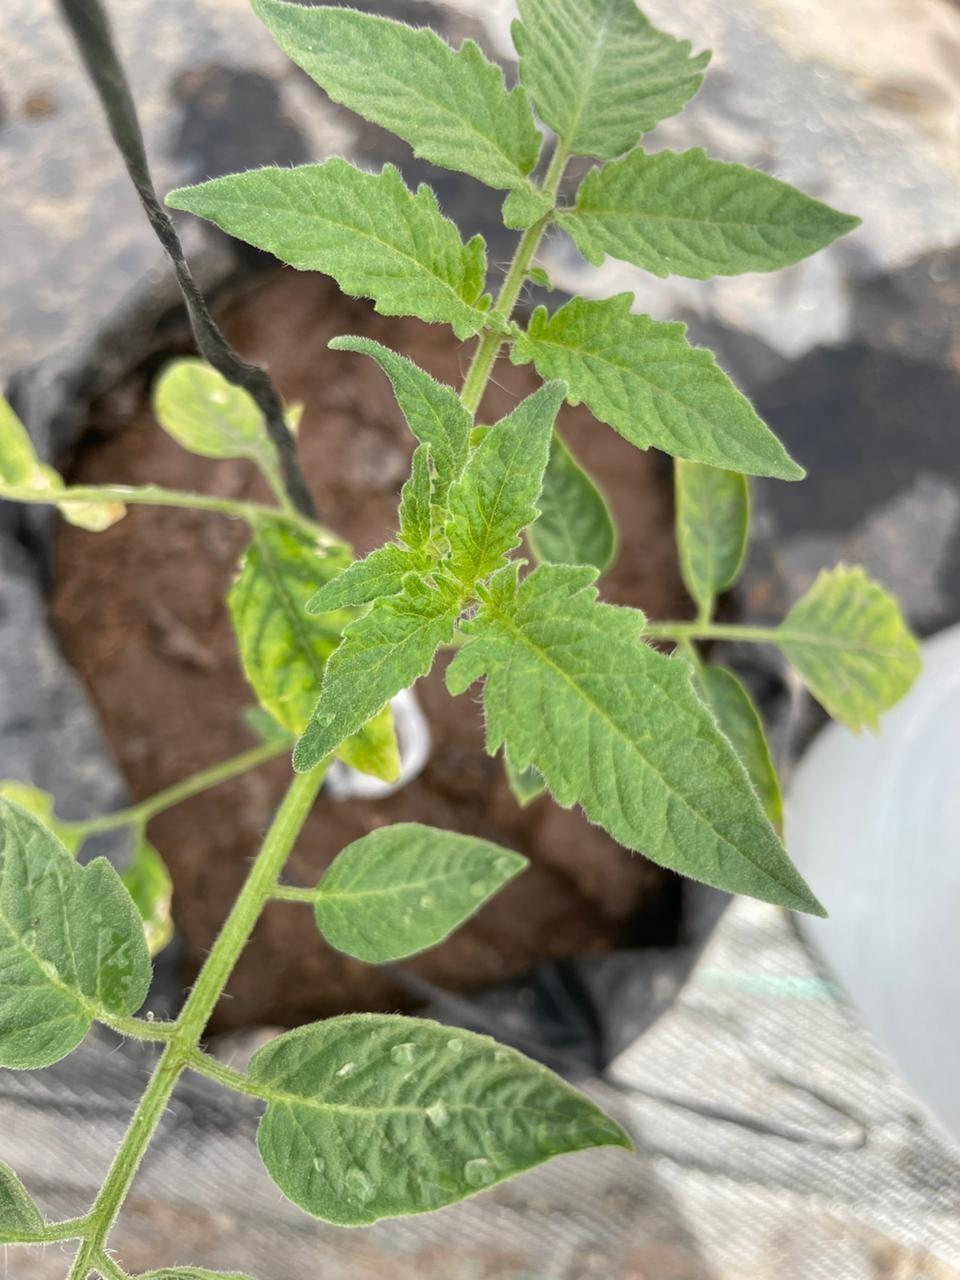Rugose leaf: (448, 565, 818, 912), (247, 1015, 630, 1225), (167, 157, 490, 340), (510, 292, 803, 480), (254, 0, 541, 190), (555, 147, 857, 280), (295, 572, 460, 770), (512, 0, 710, 160), (330, 335, 473, 505), (445, 383, 563, 590), (308, 542, 435, 613), (397, 442, 430, 550)
Rugose stem: (69, 740, 338, 1280)
